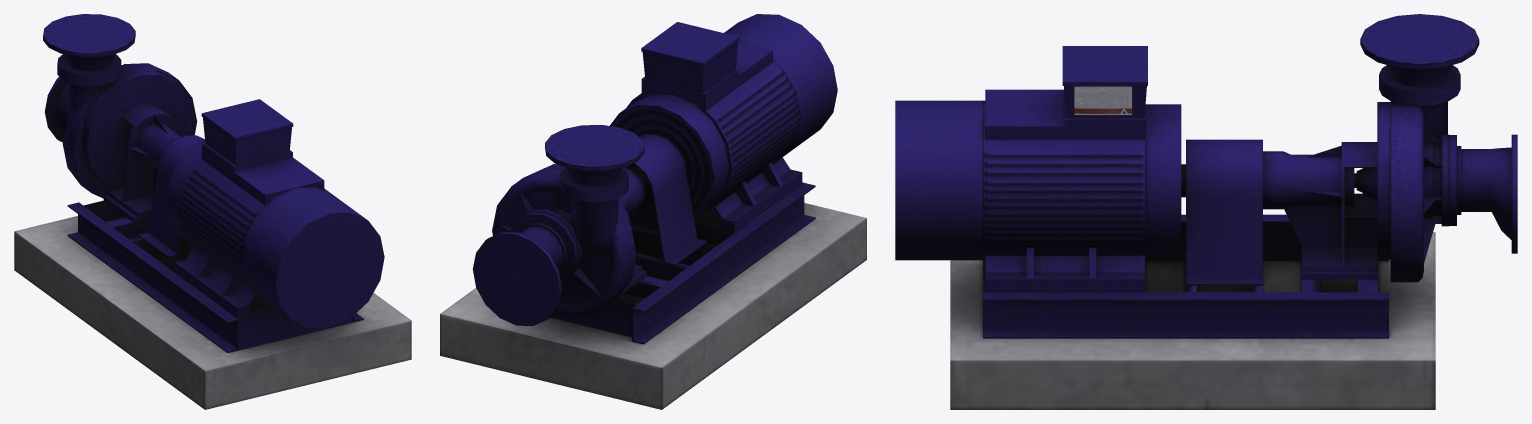
File: lengquebeng001.FBX
3 views of the same model, side by side, from view 1: azimuth 30°, elevation 25°; view 2: azimuth 150°, elevation 25°; view 3: azimuth 270°, elevation 25° (orthographic). The views are drawn at different scales.
Visible parts, largest first — view 1: lengquebeng001zujian007, lengquebeng001zujian008; view 2: lengquebeng001zujian007, lengquebeng001zujian008; view 3: lengquebeng001zujian007, lengquebeng001zujian008.
Part boxes in pixels (x1=…): lengquebeng001zujian007: x1=14, y1=99, x2=411, y2=409; lengquebeng001zujian008: x1=43, y1=14, x2=204, y2=257; lengquebeng001zujian007: x1=440, y1=14, x2=866, y2=409; lengquebeng001zujian008: x1=472, y1=125, x2=707, y2=325; lengquebeng001zujian007: x1=895, y1=46, x2=1435, y2=409; lengquebeng001zujian008: x1=1181, y1=14, x2=1517, y2=285.
Size of the model in its own units: 1000 by 1038 by 2052.
